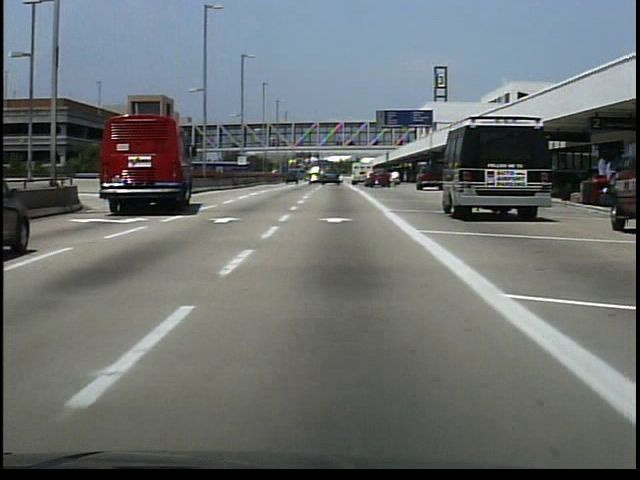person: (389, 168, 402, 191)
